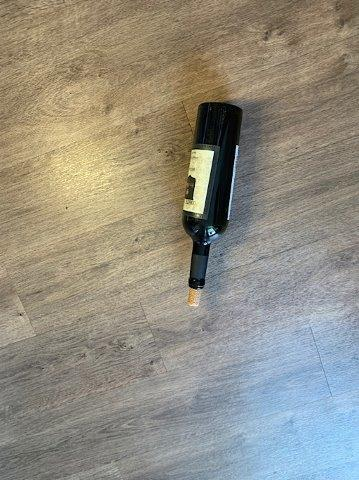botolkaca: (184, 103, 242, 305)
